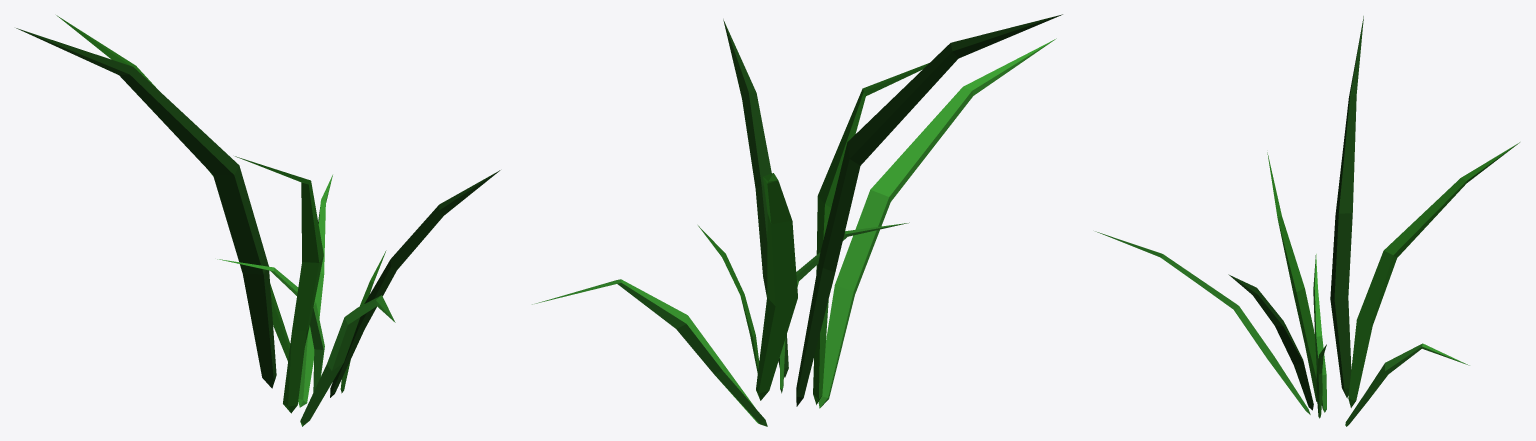
File: GrassPatch_02_1.FBX
3 views of the same model, side by side, from view 1: azimuth 30°, elevation 25°; view 2: azimuth 150°, elevation 25°; view 3: azimuth 270°, elevation 25° (orthographic). The views are drawn at different scales.
Visible parts, largest first — view 1: Grass008, Grass007, Grass005, Grass004, Grass003, Grass002, Grass006; view 2: Grass008, Grass004, Grass006, Grass005, Grass007, Grass003, Grass001, Grass002; view 3: Grass008, Grass006, Grass007, Grass004, Grass005, Grass003, Grass002, Grass001.
Part boxes in pixels (x1,y1,x2,y2): Grass008: [16, 28, 276, 388]; Grass007: [235, 156, 323, 413]; Grass005: [330, 170, 500, 397]; Grass004: [300, 295, 395, 426]; Grass003: [298, 175, 332, 407]; Grass002: [217, 259, 324, 392]; Grass006: [56, 15, 290, 360]; Grass008: [796, 14, 1062, 406]; Grass004: [818, 38, 1056, 408]; Grass006: [756, 173, 797, 400]; Grass005: [723, 19, 788, 377]; Grass007: [813, 63, 928, 404]; Grass003: [532, 279, 767, 426]; Grass001: [698, 225, 759, 373]; Grass002: [779, 222, 909, 393]; Grass008: [1330, 16, 1363, 398]; Grass006: [1348, 142, 1519, 407]; Grass007: [1267, 152, 1317, 401]; Grass004: [1095, 231, 1310, 414]; Grass005: [1228, 274, 1313, 410]; Grass003: [1345, 343, 1469, 426]; Grass002: [1313, 254, 1326, 412]; Grass001: [1316, 344, 1326, 418].
Bounding box in the file's own units: 4.26 × 4.52 × 5.57.
